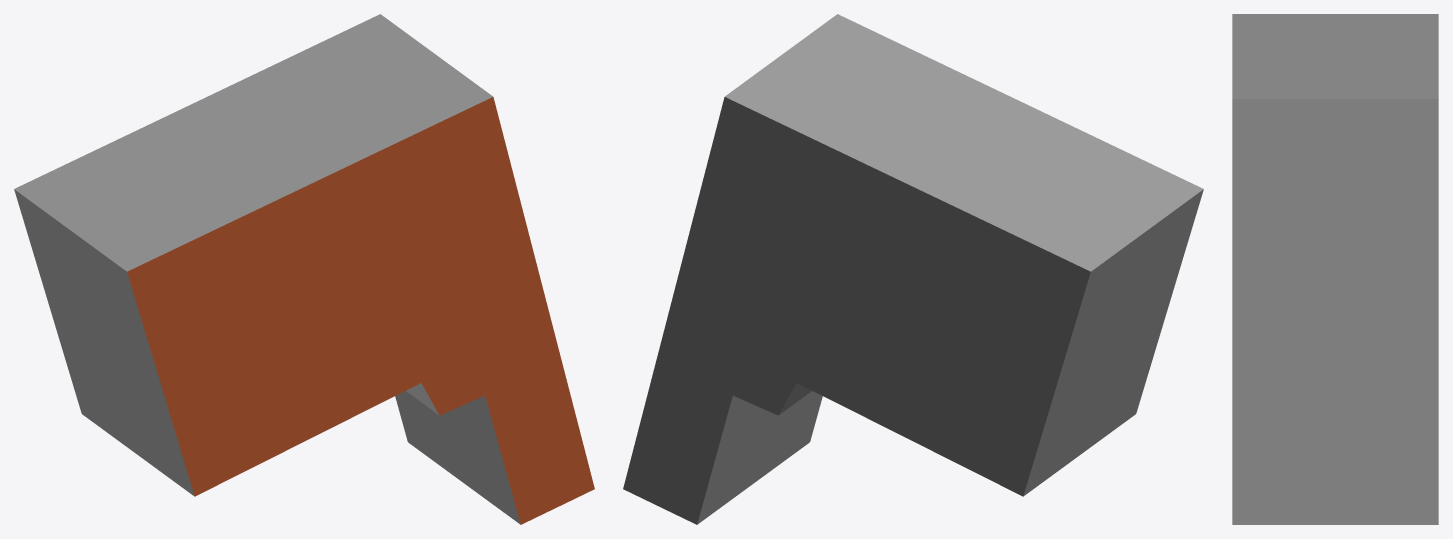
Rendered from construction_5055_assumed_A_Casa_h6m.obj.
3 views of the same model, side by side, from view 1: azimuth 30°, elevation 25°; view 2: azimuth 150°, elevation 25°; view 3: azimuth 270°, elevation 25° (orthographic). The views are drawn at different scales.
Parts seen in each view (by area): view 1: construction_5055_assumed_A_Casa; view 2: construction_5055_assumed_A_Casa; view 3: construction_5055_assumed_A_Casa.
Part boxes in pixels (left/top/right/bottom): construction_5055_assumed_A_Casa: left=14, top=14, right=594, bottom=524; construction_5055_assumed_A_Casa: left=623, top=14, right=1203, bottom=524; construction_5055_assumed_A_Casa: left=1232, top=14, right=1438, bottom=524.
Bounding box in the file's own units: 14.34 × 12.74 × 6.
